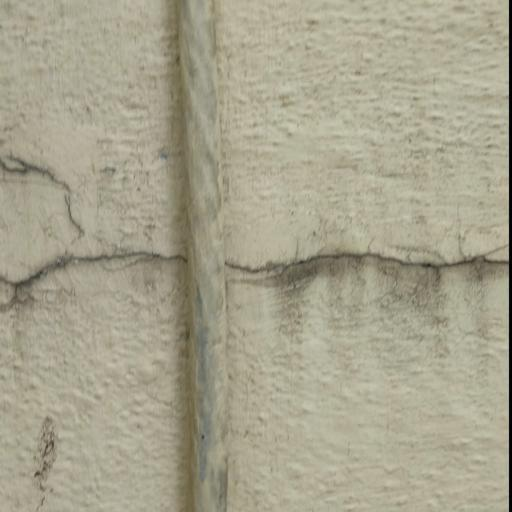minor_crack: (0, 140, 512, 370)
